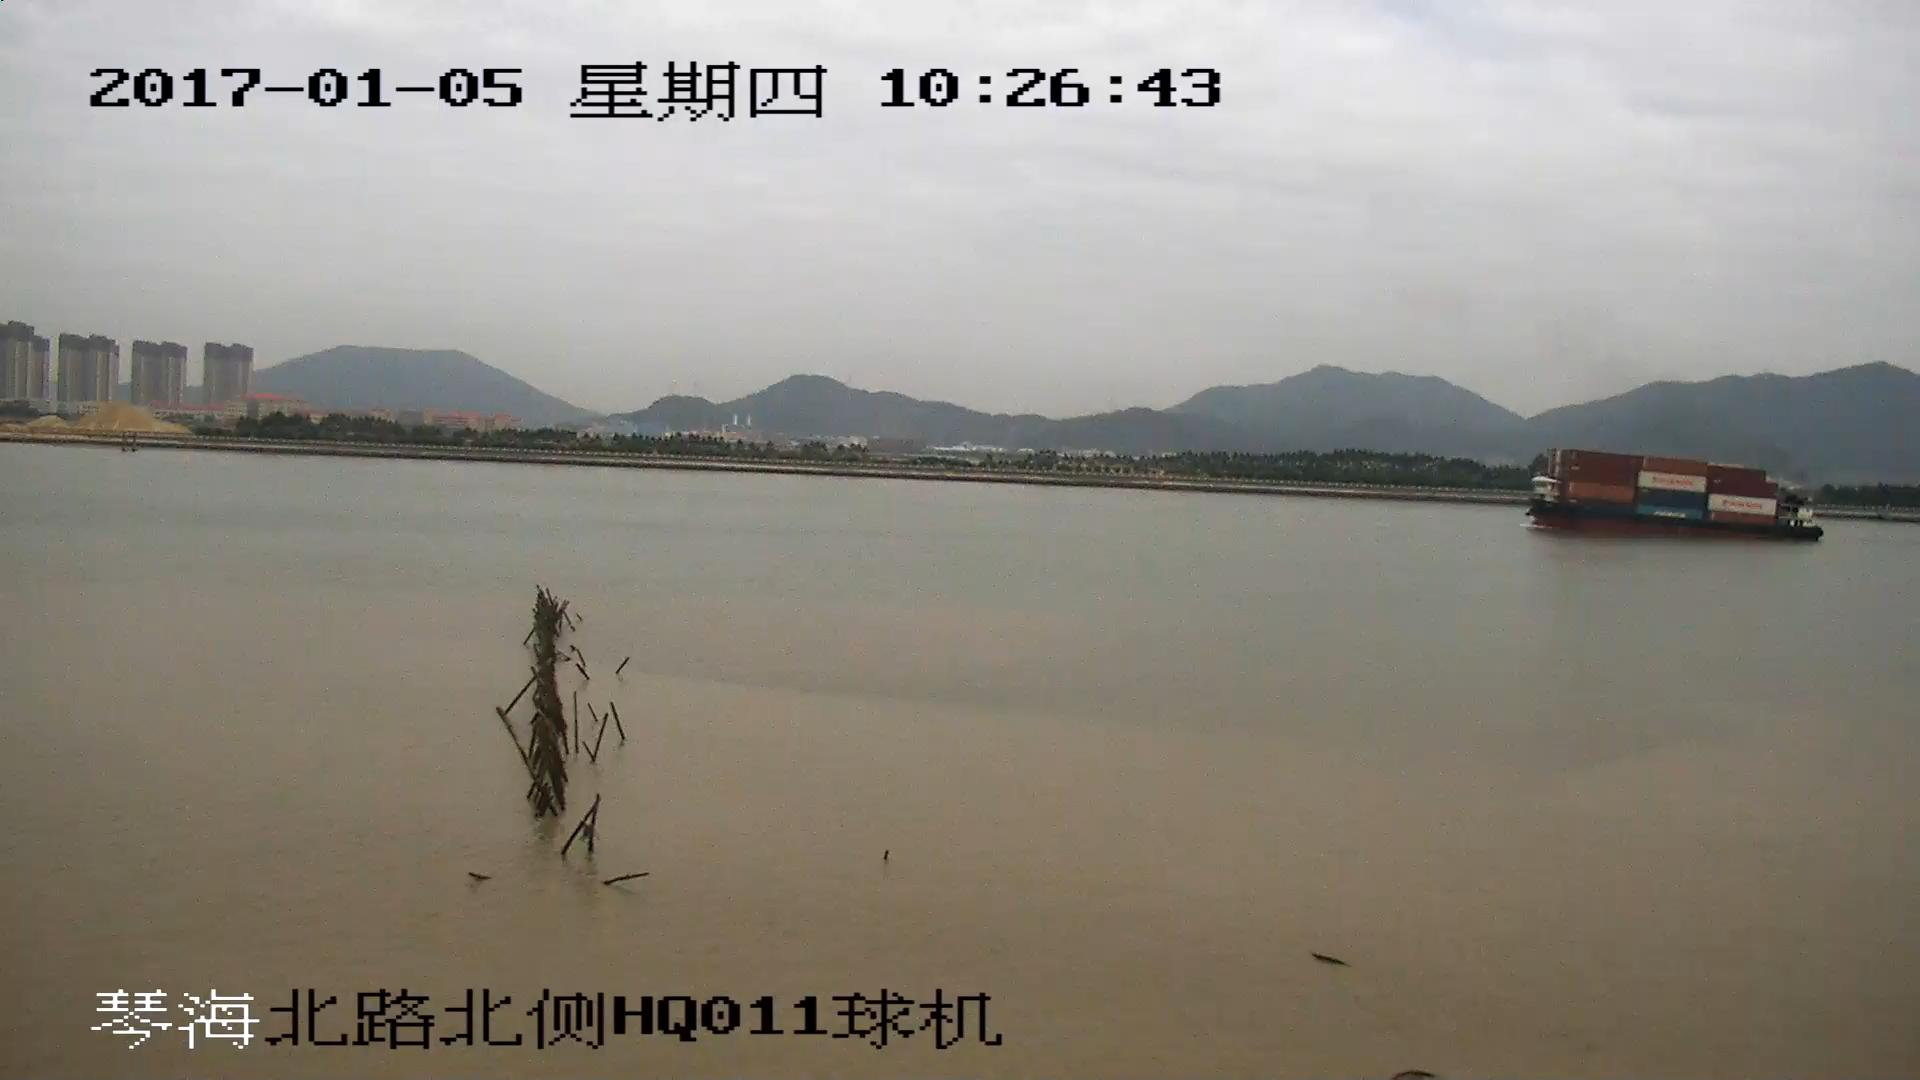container ship: (1527, 453, 1822, 545)
